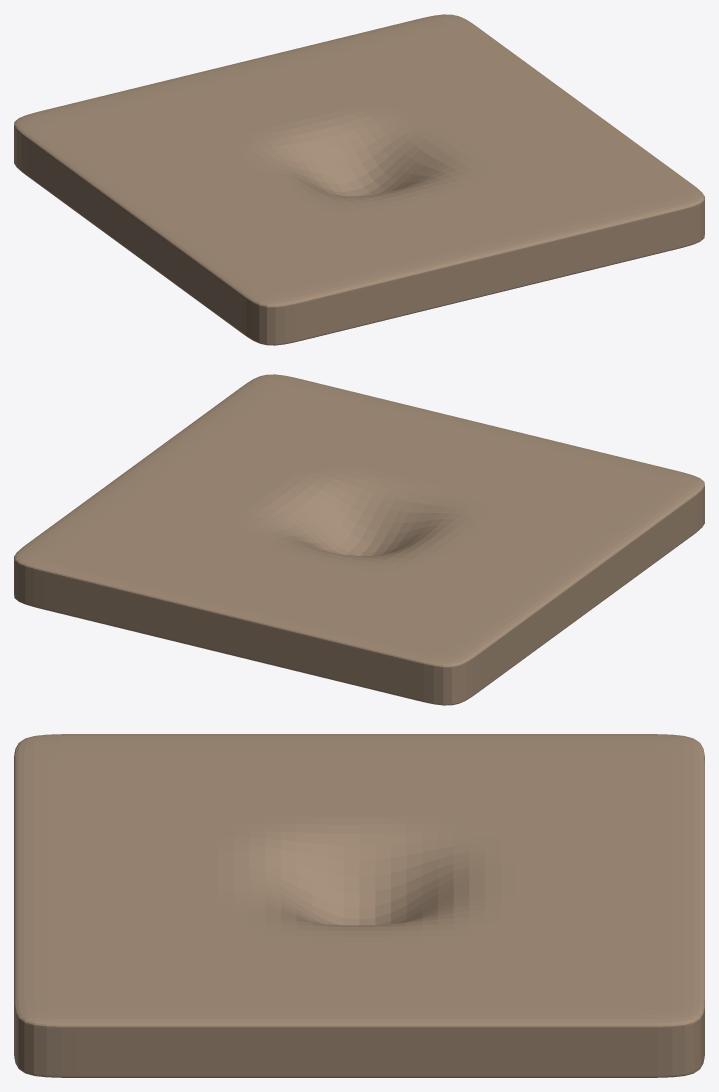
Rendered from ground.fbx.
3 renders of one model, top to bottom at view 1: azimuth 30°, elevation 25°; view 2: azimuth 150°, elevation 25°; view 3: azimuth 270°, elevation 25°, orthographic. The views are drawn at different scales.
Visible parts, largest first — view 1: Cube; view 2: Cube; view 3: Cube.
Part boxes in pixels (x1=…): Cube: x1=14, y1=14, x2=704, y2=345; Cube: x1=14, y1=374, x2=704, y2=705; Cube: x1=14, y1=734, x2=704, y2=1077.
Bounding box in the file's own units: 23.94 × 2.23 × 23.94.
